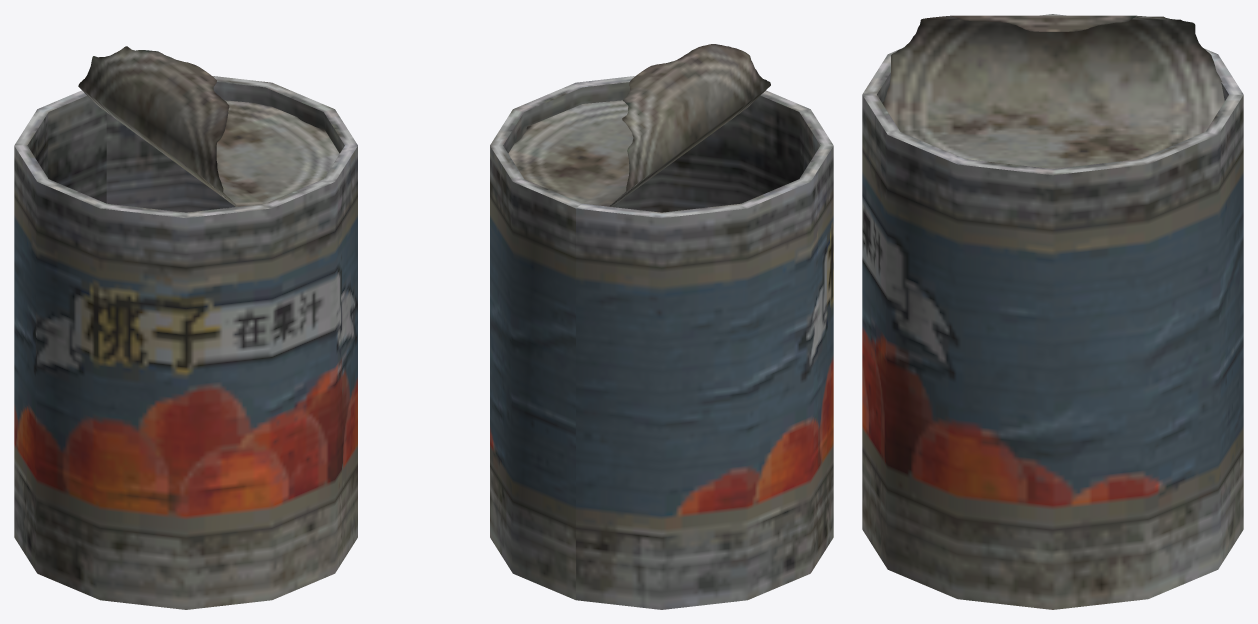
Rendered from tin_can_peaches.dae.
3 views of the same model, side by side, from view 1: azimuth 30°, elevation 25°; view 2: azimuth 150°, elevation 25°; view 3: azimuth 270°, elevation 25° (orthographic). The views are drawn at different scales.
Visible parts, largest first — view 1: tin_can_peaches; view 2: tin_can_peaches; view 3: tin_can_peaches.
Boxes of the visible parts, left/top/right/bottom form: tin_can_peaches: left=14, top=46, right=357, bottom=609; tin_can_peaches: left=490, top=44, right=833, bottom=609; tin_can_peaches: left=862, top=14, right=1243, bottom=609.
Size of the model in its own units: 0.204 by 0.3015 by 0.204.
